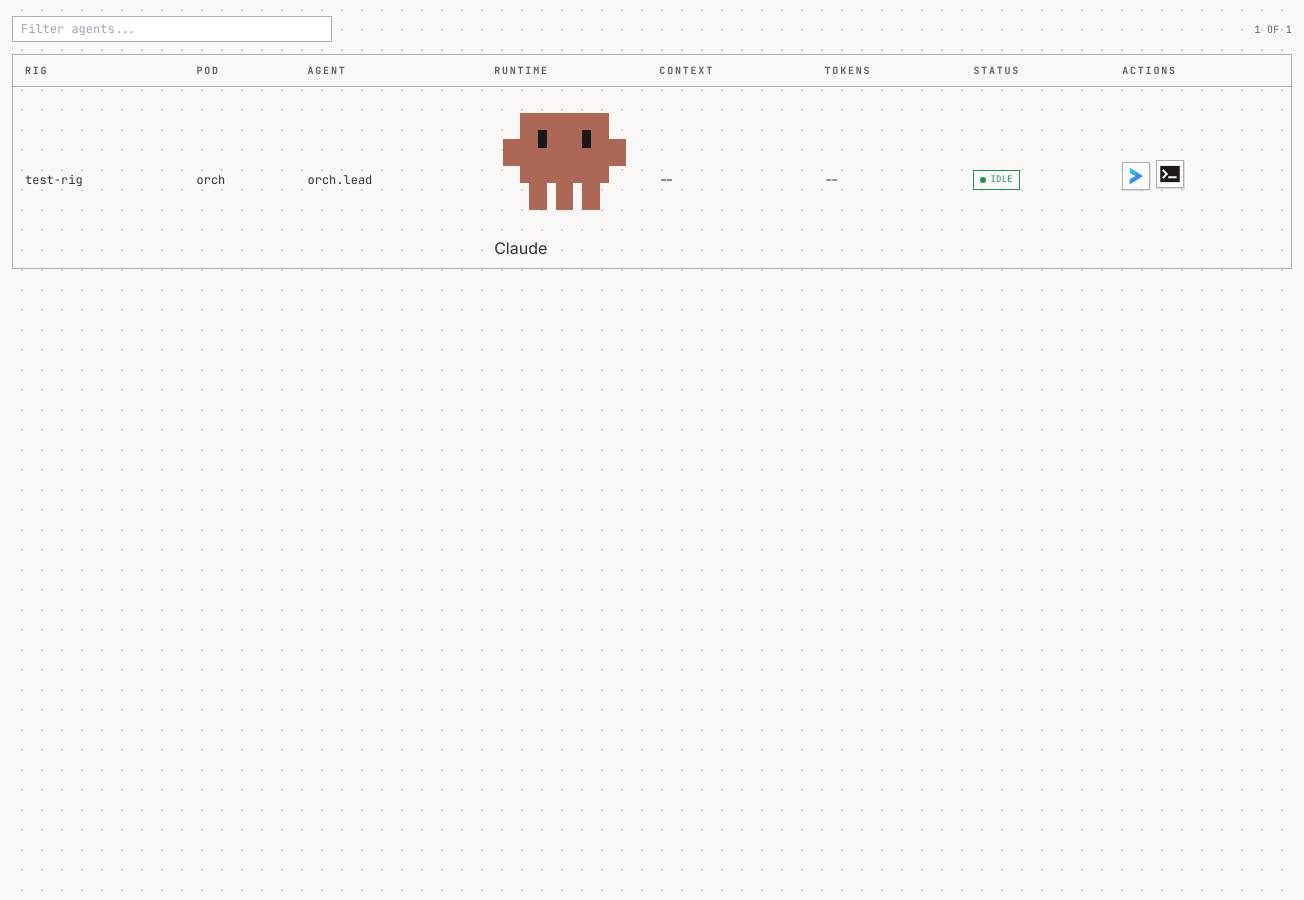
Scenario: OPR.0.4.1.31 — table Open-in-cmux surfaces failures (no silent no-op) › renders the daemon error message on the button when open-cmux fails
Click the button with test id "topology-table-cmux-orch.lead": (1136, 176) top-left (1122, 162), bottom-right (1150, 190)
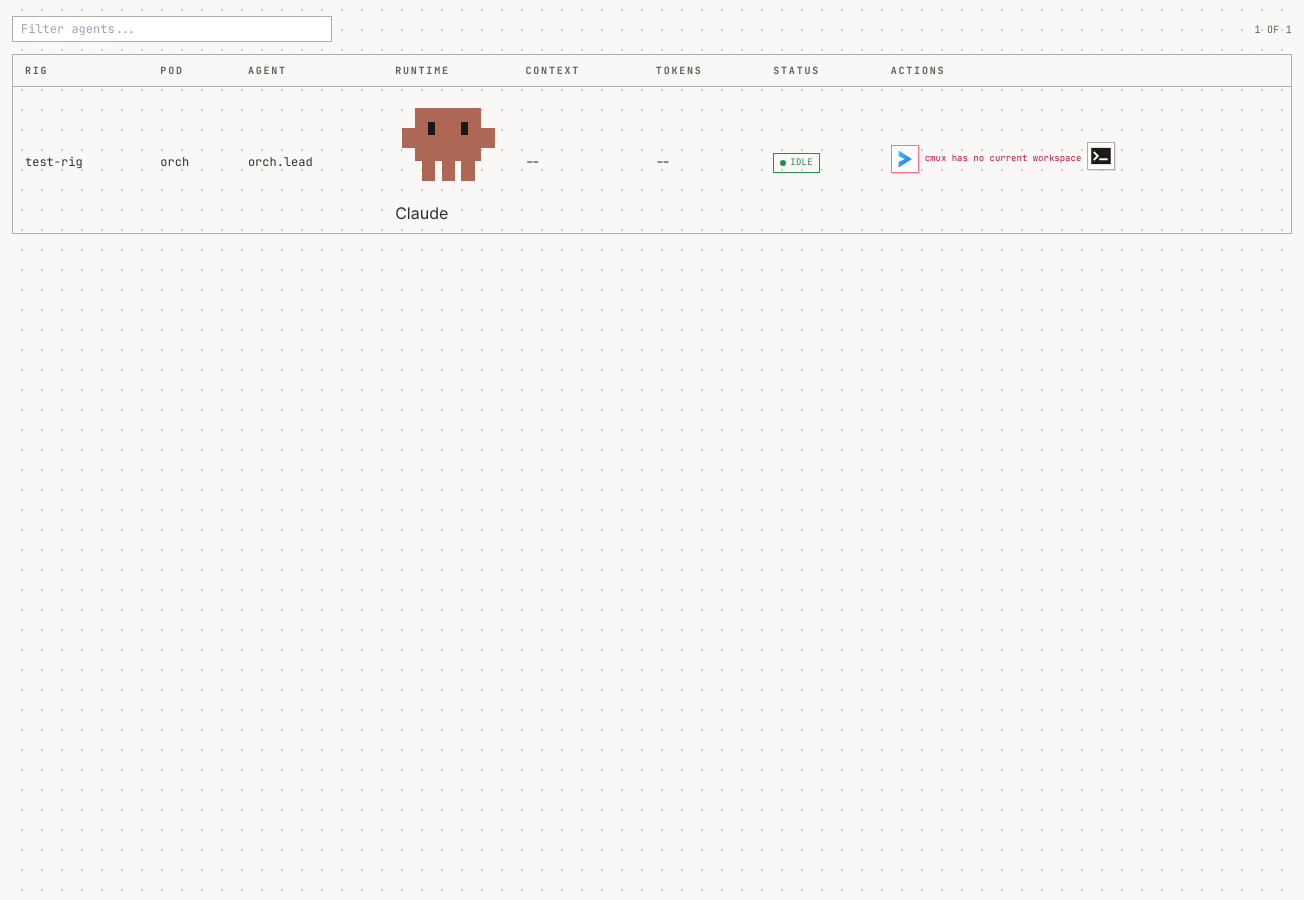
Result: the message with test id "topology-table-cmux-error-orch.lead" reads "cmux has no current workspace" at top-left (925, 152), bottom-right (1081, 164)
